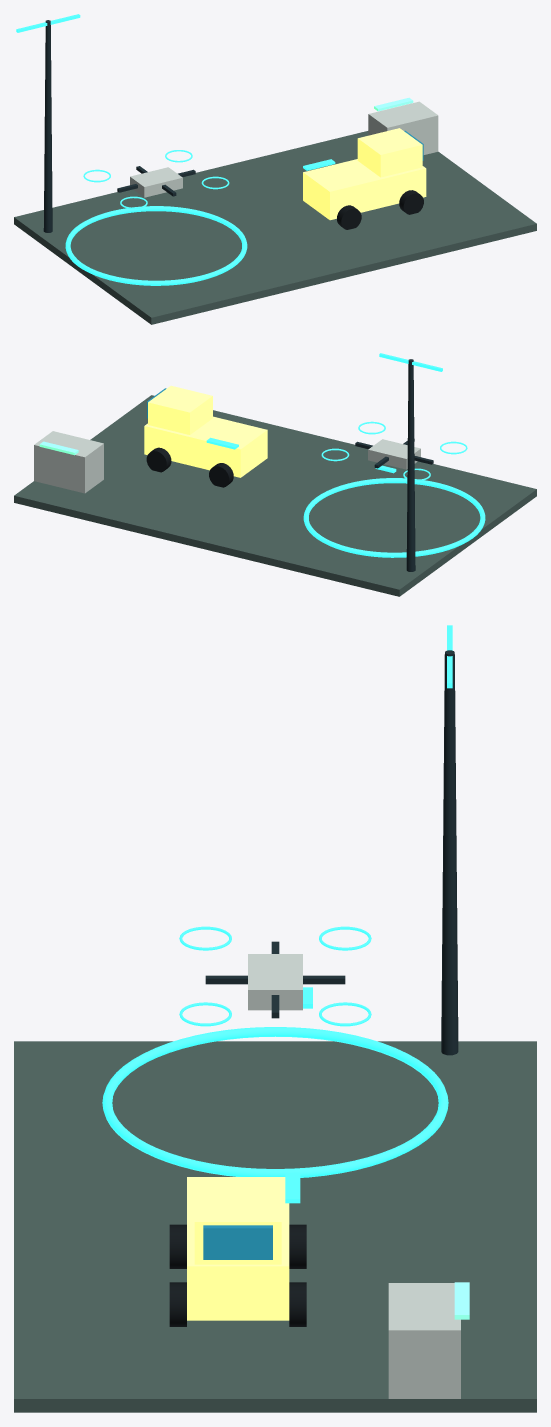
The model's file is inspection-service-kit.glb.
The picture shows the model from 3 angles, top to bottom: view 1: azimuth 30°, elevation 25°; view 2: azimuth 150°, elevation 25°; view 3: azimuth 270°, elevation 25°; orthographic projection. The views are drawn at different scales.
Parts seen in each view (by area): view 1: service-pad, maintenance-service-truck-body, maintenance-service-truck-cab, drone-launch-ring, tool-cart-body, field-radio-mast, inspection-drone-body, maintenance-service-truck-wheel-4, maintenance-service-truck-wheel-3; view 2: service-pad, maintenance-service-truck-body, tool-cart-body, maintenance-service-truck-cab, drone-launch-ring, field-radio-mast, inspection-drone-body, maintenance-service-truck-wheel-2, maintenance-service-truck-wheel-1; view 3: service-pad, tool-cart-body, drone-launch-ring, maintenance-service-truck-body, field-radio-mast, maintenance-service-truck-cab, inspection-drone-body, maintenance-service-truck-front-glass.
Boxes of the visible parts, <box> form: service-pad: <box>14,131,536,324</box>; maintenance-service-truck-body: <box>303,159,426,220</box>; maintenance-service-truck-cab: <box>357,128,422,177</box>; drone-launch-ring: <box>65,206,247,285</box>; tool-cart-body: <box>368,101,438,154</box>; field-radio-mast: <box>43,20,52,232</box>; inspection-drone-body: <box>130,167,182,197</box>; maintenance-service-truck-wheel-4: <box>399,190,423,214</box>; maintenance-service-truck-wheel-3: <box>337,205,361,229</box>; service-pad: <box>14,395,536,596</box>; maintenance-service-truck-body: <box>144,416,267,477</box>; tool-cart-body: <box>34,431,103,493</box>; maintenance-service-truck-cab: <box>148,385,212,434</box>; drone-launch-ring: <box>303,478,485,557</box>; field-radio-mast: <box>406,359,415,571</box>; inspection-drone-body: <box>368,439,420,469</box>; maintenance-service-truck-wheel-2: <box>146,447,171,472</box>; maintenance-service-truck-wheel-1: <box>209,463,233,487</box>; service-pad: <box>14,1041,536,1412</box>; tool-cart-body: <box>388,1283,460,1398</box>; drone-launch-ring: <box>102,1027,448,1177</box>; maintenance-service-truck-body: <box>187,1177,289,1320</box>; field-radio-mast: <box>441,650,458,1055</box>; maintenance-service-truck-cab: <box>194,1183,281,1264</box>; inspection-drone-body: <box>248,954,302,1010</box>; maintenance-service-truck-front-glass: <box>203,1225,272,1259</box>.
Bounding box in the file's own units: 7.15 × 3.66 × 4.2.
